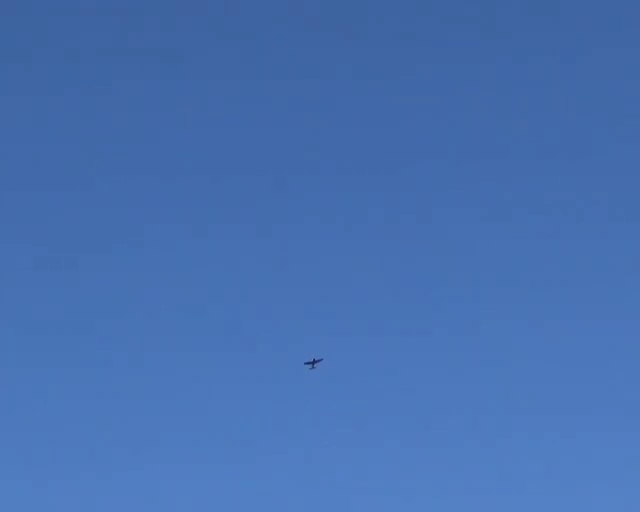AIRPLANE: (303, 356, 324, 369)
